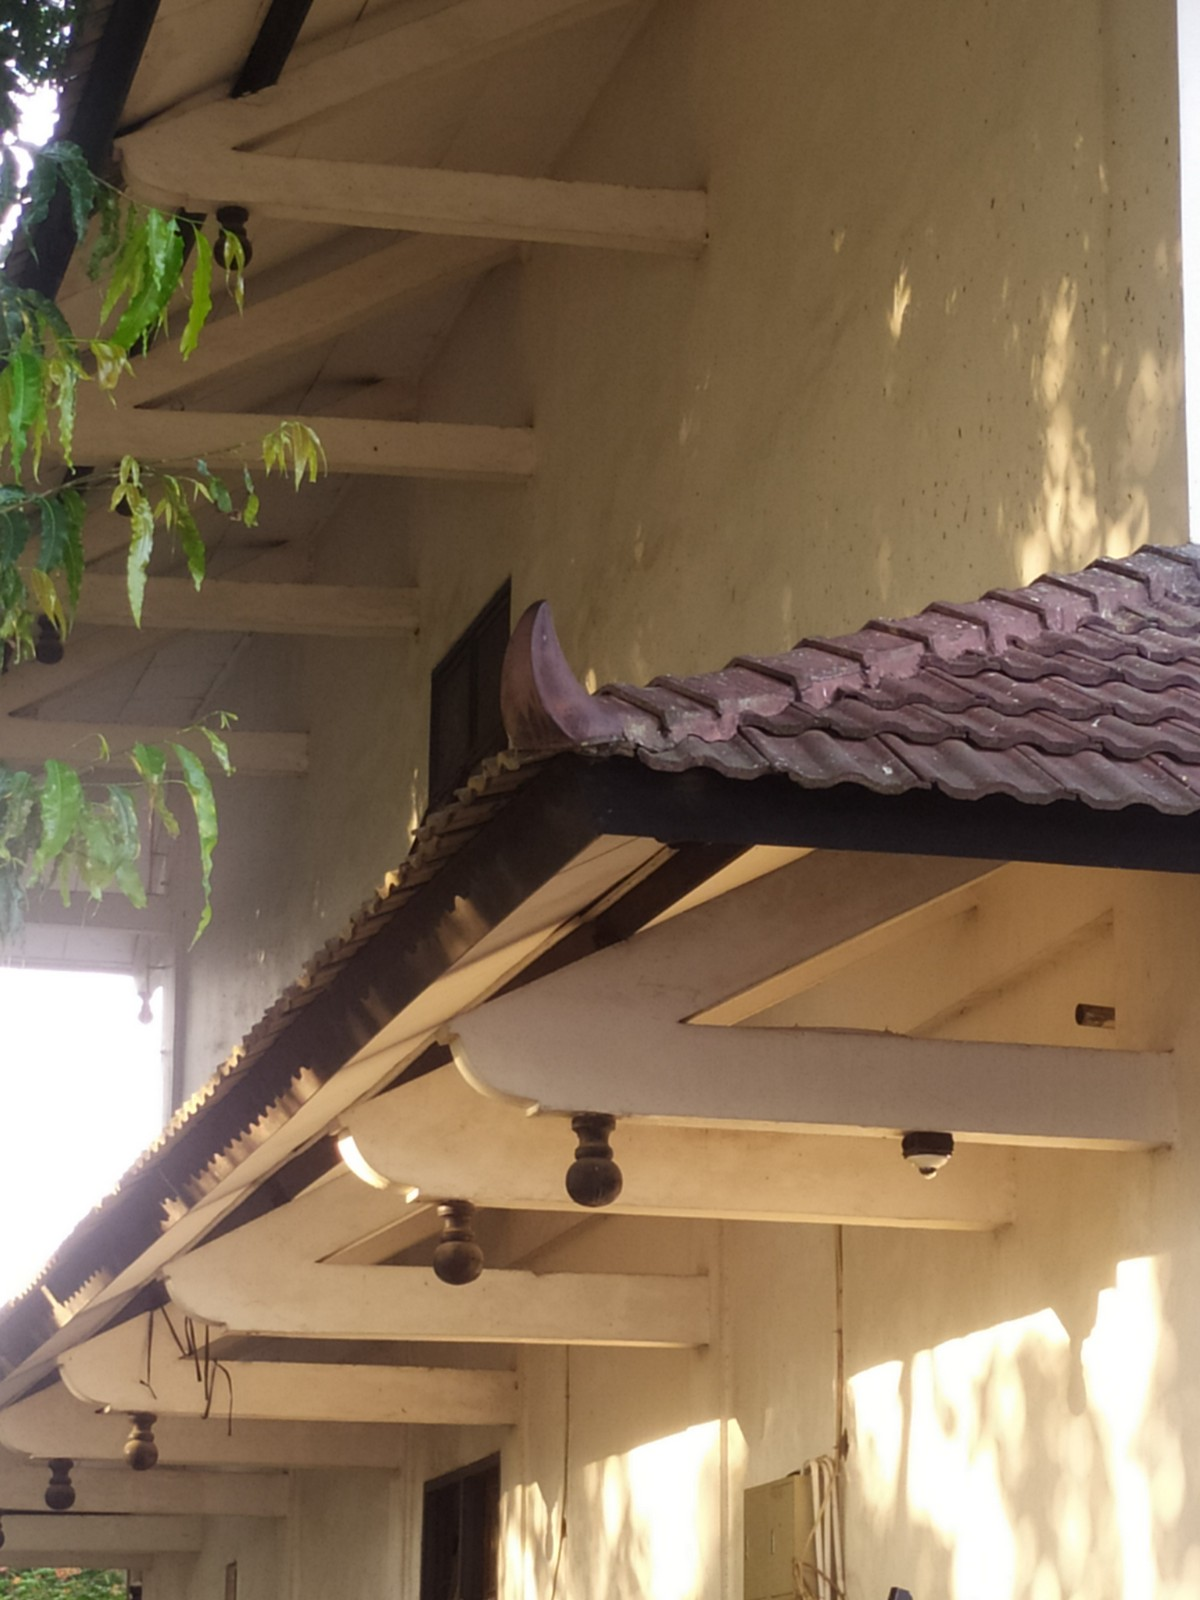concrete beam: (672, 1022, 1186, 1167), (492, 1117, 1027, 1243), (234, 144, 724, 267), (345, 1260, 732, 1358), (151, 404, 555, 491), (89, 567, 432, 650), (194, 1356, 532, 1437)
